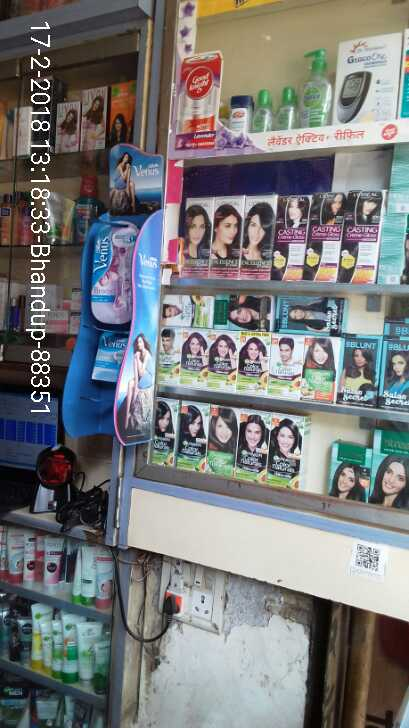beauty: (91, 220, 133, 332), (90, 330, 122, 382)
